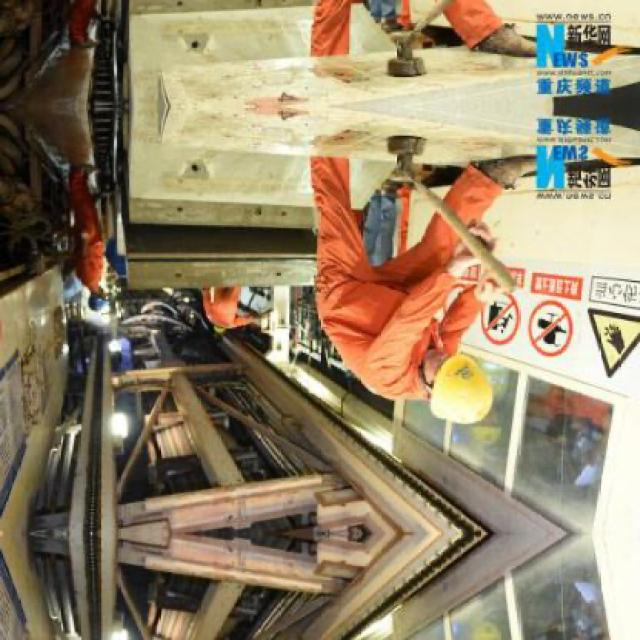con casco: (385, 316, 509, 458)
